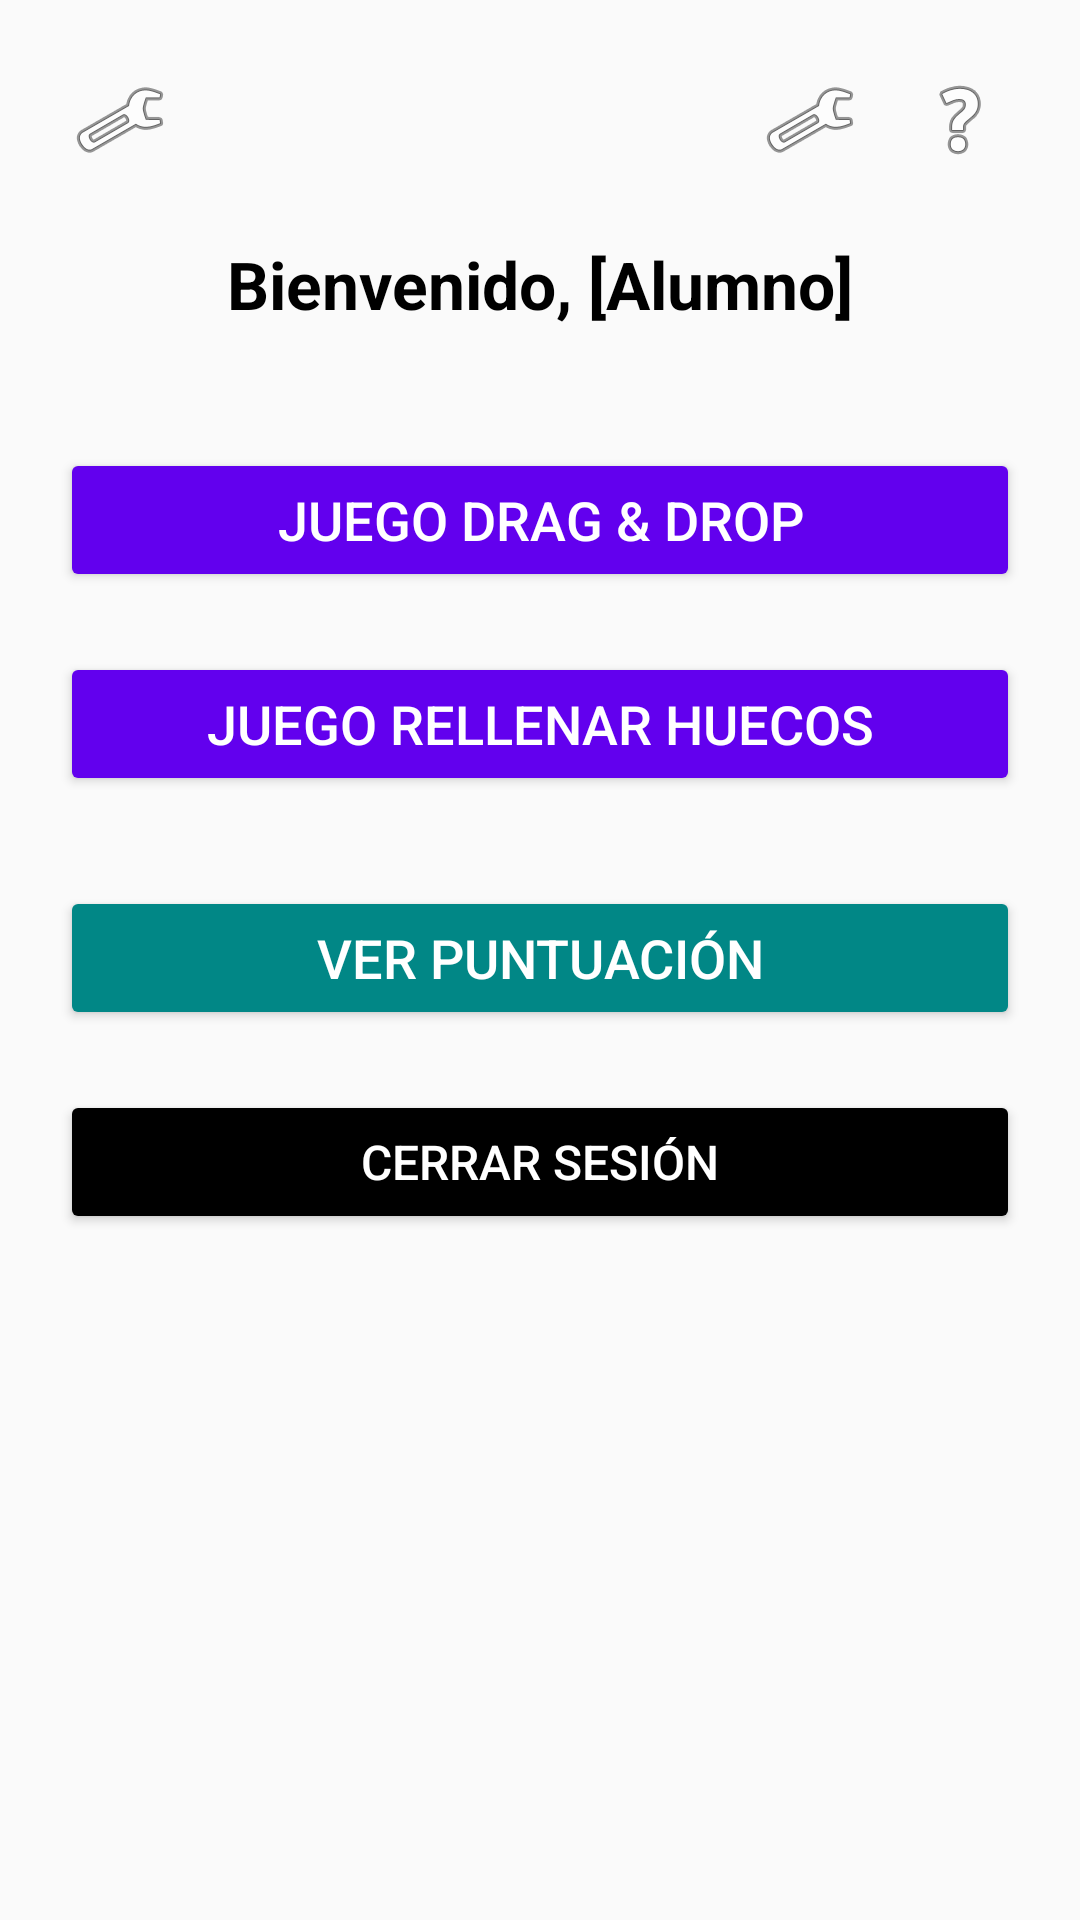

Icons on this 1080×1920 Android screen, each with its box as Rect(x1, y1, x2, y2):
Botón de ayuda: Rect(939, 86, 981, 154)
configuracion: Rect(77, 87, 163, 153)
